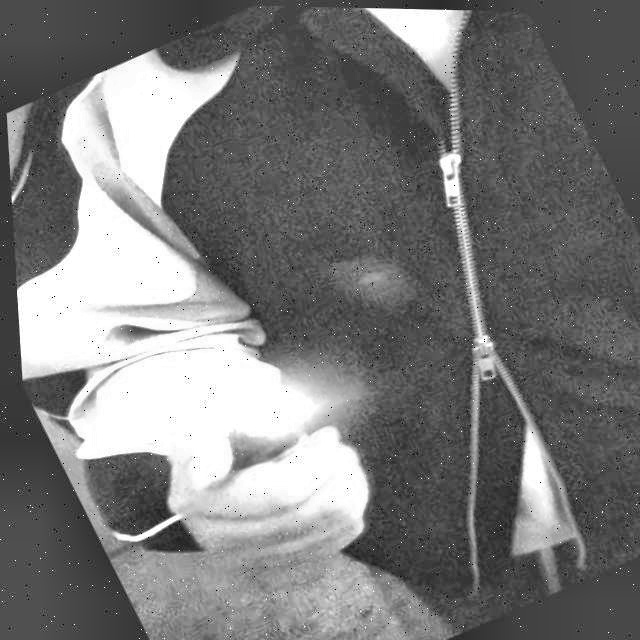Fire: (225, 345, 282, 418)
